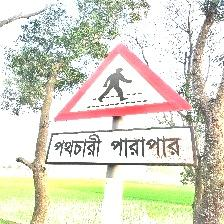Pedestrian-crossing: (49, 42, 196, 166)
